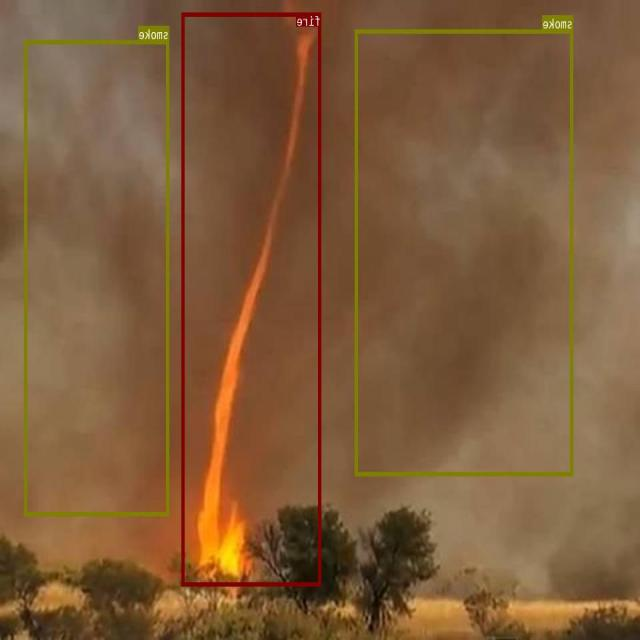fire: (182, 12, 322, 586)
smoke: (355, 29, 574, 475), (25, 40, 170, 515)
